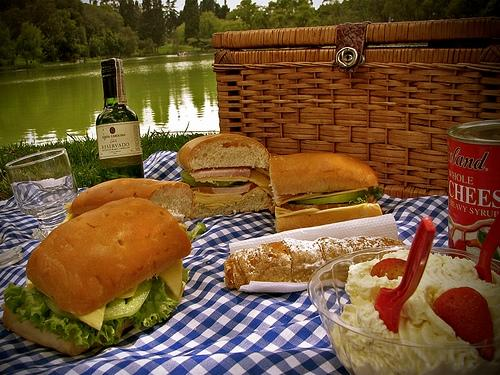lettuce: (128, 276, 180, 330), (346, 186, 384, 204), (186, 222, 207, 243), (42, 309, 53, 322)
